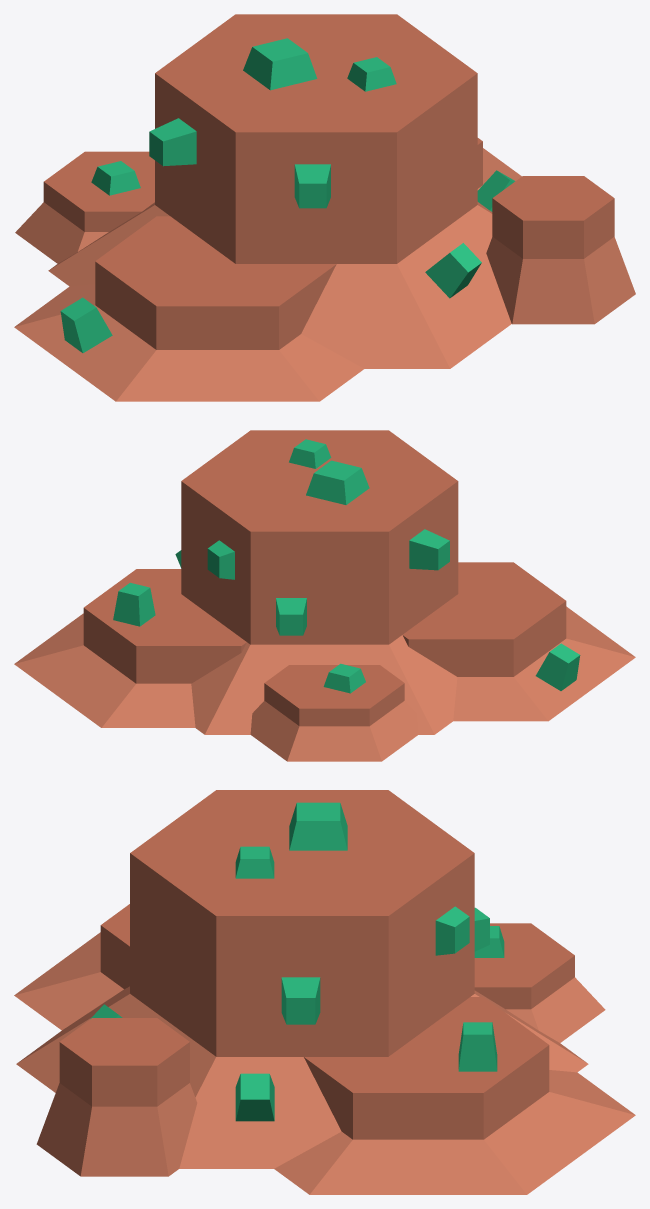
Rendered from rock-crystals.glb.
3 views of the same model, one above another, from view 1: azimuth 30°, elevation 25°; view 2: azimuth 150°, elevation 25°; view 3: azimuth 270°, elevation 25° (orthographic). The views are drawn at different scales.
Visible parts, largest first — view 1: geometry_0; view 2: geometry_0; view 3: geometry_0.
Boxes of the visible parts, bbox=[...] form: geometry_0: bbox=[14, 14, 635, 401]; geometry_0: bbox=[14, 430, 635, 761]; geometry_0: bbox=[14, 790, 635, 1194].
Size of the model in its own units: 1 by 0.3966 by 0.9419.
